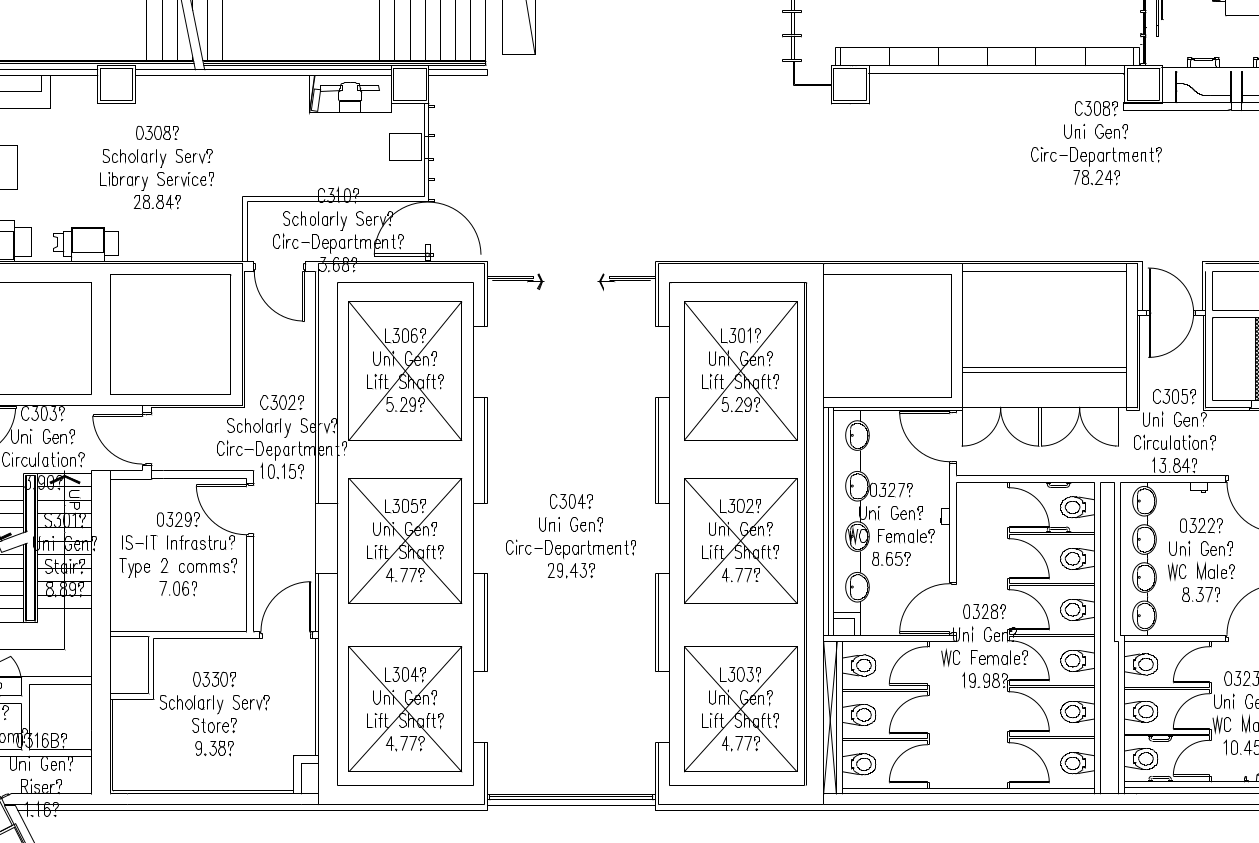door: (1147, 262, 1197, 364), (891, 577, 960, 637), (88, 409, 156, 469), (186, 480, 252, 539), (893, 407, 955, 468), (258, 575, 313, 641), (253, 264, 308, 330), (1005, 482, 1053, 532), (1004, 532, 1052, 582), (1003, 585, 1051, 635), (1003, 635, 1051, 685), (1009, 688, 1057, 738), (1007, 735, 1055, 785), (884, 736, 932, 786), (885, 688, 933, 738), (885, 640, 933, 690), (1165, 641, 1217, 685), (1163, 688, 1215, 732), (1167, 737, 1219, 781)
